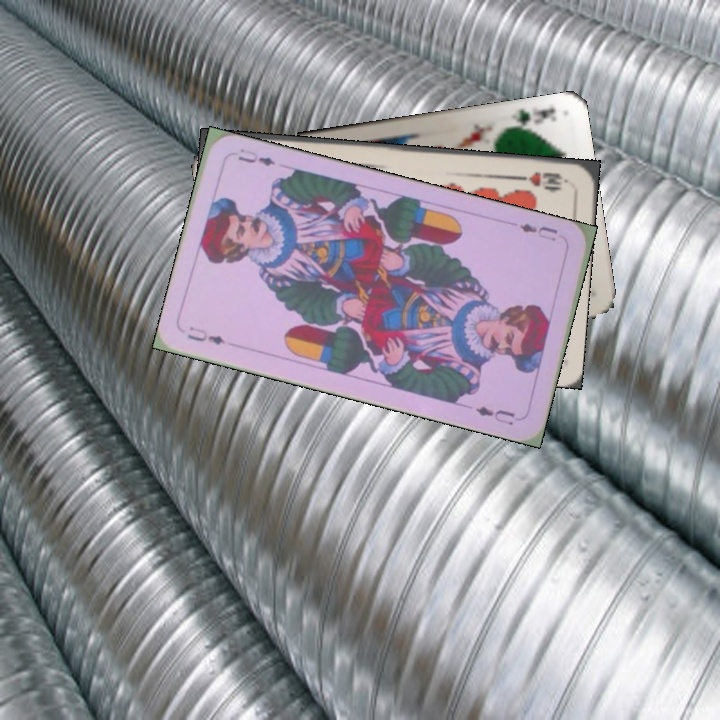EU: (183, 322, 228, 348), (515, 219, 561, 244)
GK: (504, 103, 559, 132)
H10: (513, 168, 571, 192)
